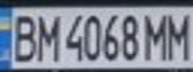0: (81, 11, 103, 62)
4: (60, 10, 84, 62)
6: (100, 10, 124, 62)
8: (118, 10, 142, 62)
B: (6, 10, 39, 63)
M: (163, 9, 193, 61), (142, 10, 172, 62), (33, 10, 60, 62)
